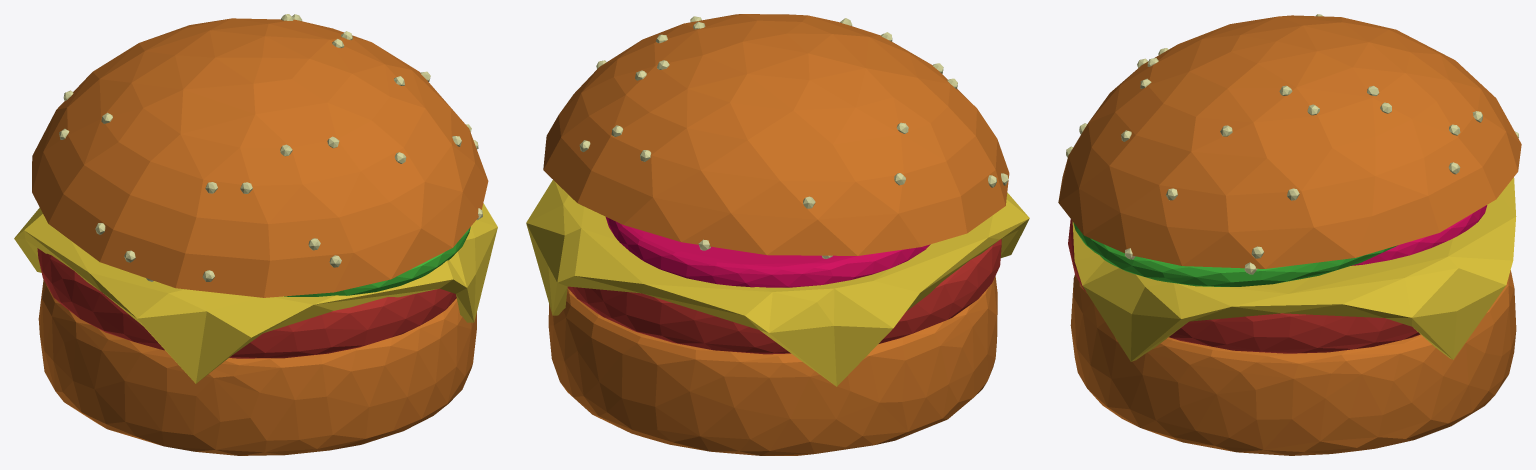
File: burger.fbx
3 renders of one model, left to right at view 1: azimuth 30°, elevation 25°; view 2: azimuth 150°, elevation 25°; view 3: azimuth 270°, elevation 25°, orthographic. The views are drawn at different scales.
Visible parts, largest first — view 1: Sphere, Cylinder, Plane, Cylinder.001, Cylinder.003; view 2: Sphere, Cylinder, Plane, Cylinder.001, Cylinder.002; view 3: Sphere, Cylinder, Plane, Cylinder.001, Cylinder.003, Cylinder.002.
Boxes of the visible parts, x1,y1,x2,y2 form: Sphere: (32, 18, 488, 297); Cylinder: (38, 280, 476, 455); Plane: (14, 203, 497, 383); Cylinder.001: (37, 248, 456, 358); Cylinder.003: (284, 227, 470, 296); Sphere: (543, 14, 1009, 255); Cylinder: (548, 276, 997, 455); Plane: (526, 180, 1029, 386); Cylinder.001: (567, 239, 1001, 354); Cylinder.002: (605, 217, 930, 287); Sphere: (1058, 15, 1521, 268); Cylinder: (1070, 270, 1516, 455); Plane: (1072, 177, 1516, 361); Cylinder.001: (1068, 219, 1420, 353); Cylinder.003: (1073, 222, 1397, 286); Cylinder.002: (1351, 205, 1487, 265).
Bounding box in the file's own units: 208 × 160 × 206.
